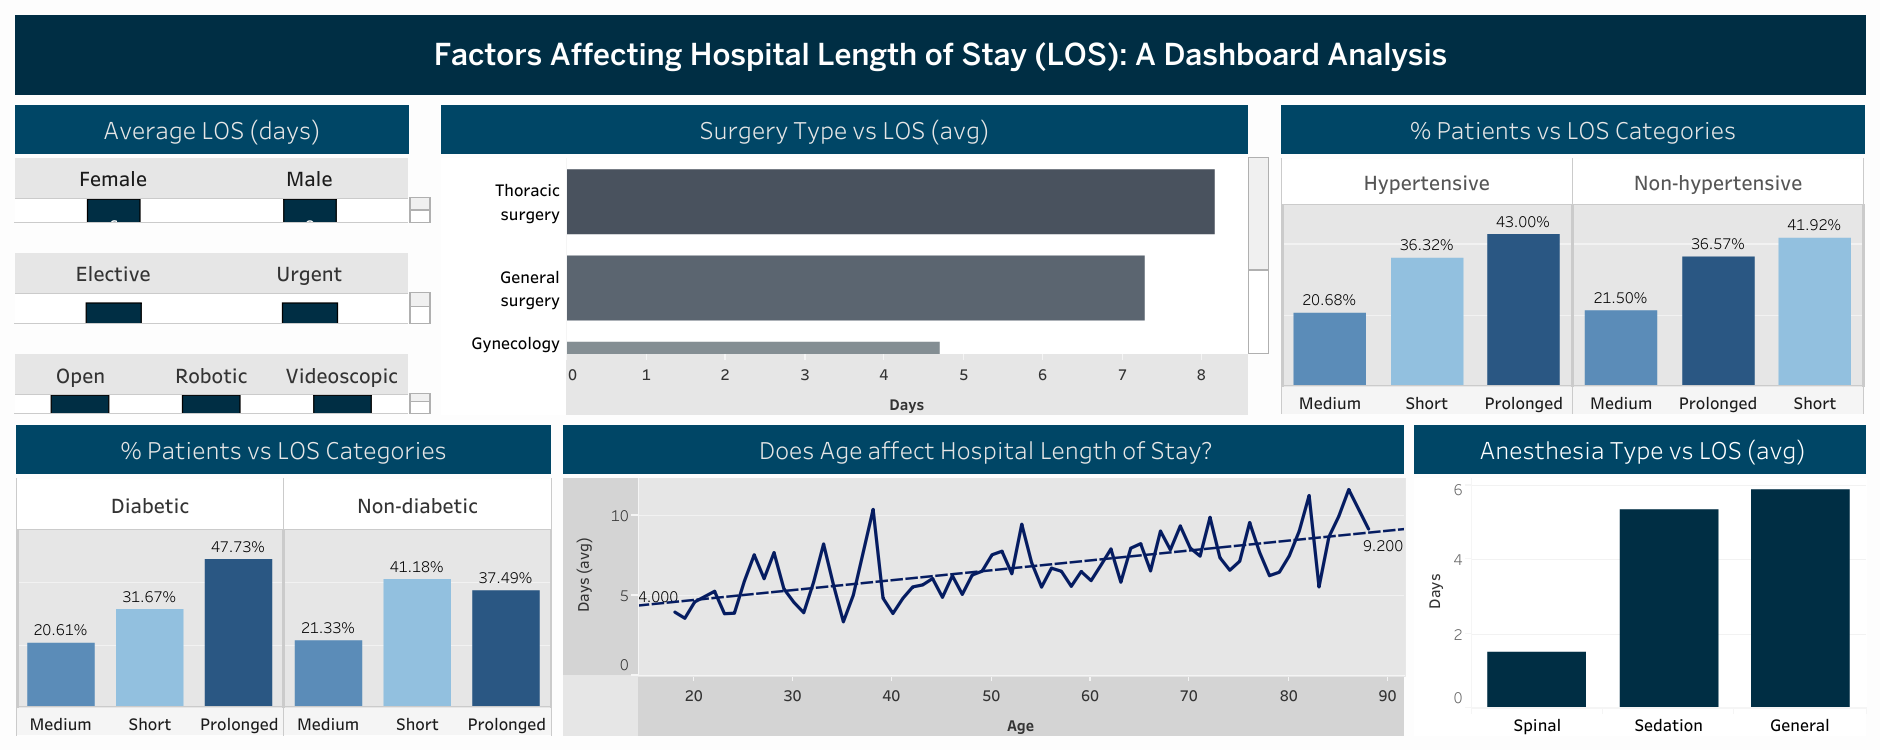

What the dashboard file says about the page in this screenshot:
{"tool":"tableau","page":{"name":"Dashboard 1","canvas":[1000,1000],"units":"permille","ordinal":0},"visuals":[{"type":"title","box":[5,9.4,989.9,84.6]},{"type":"worksheet","title":"male vs female","mark":"Square","cols":["sex"],"box":[5,94,227,179.7]},{"type":"worksheet","title":"op type","mark":"Automatic","rows":["department"],"cols":["LOS_days"],"box":[232,94,446.2,448.2]},{"type":"worksheet","title":"HTN vs non HTN","mark":"Automatic","rows":["case_id"],"cols":["preop_htn","LOS"],"box":[678.1,94,316.8,448.2]},{"type":"worksheet","title":"elective vs urgent","mark":"Square","cols":["emergency_op"],"box":[5,273.7,227,141.5]},{"type":"worksheet","title":"surgical approach","mark":"Square","cols":["surgical_approach"],"box":[5,415.2,227,127]},{"type":"worksheet","title":"diabetic vs non diabetic","mark":"Automatic","rows":["case_id"],"cols":["preop_dm","LOS"],"box":[5,542.2,291.2,448.4]},{"type":"worksheet","title":"age","mark":"Automatic","rows":["LOS_days"],"cols":["age"],"box":[296.2,542.2,453.1,448.4]},{"type":"worksheet","title":"anaesthesia type","mark":"Automatic","rows":["LOS_days"],"cols":["ane_type"],"box":[749.3,542.2,245.7,448.4]},{"type":"legend","title":"anaesthesia type","param":"[federated.1hrzsoy0yfxrps191raw10ao1mra].[none:Calculation_932808123663896578:nk","box":[818.4,652.2,87.3,131.6]}]}

Visuals, with their boxes on the dashboard's canvas, which has no fixed pixel size, in thousandths of its width and height (x1, y1, x2, y2). These are canvas units, not pixel positions in the 1880x750 screenshot, which may show the page scaled, cropped or inside an application window:
title: region(5, 9, 995, 94)
"male vs female" worksheet (Square marks): region(5, 94, 232, 274)
"op type" worksheet: region(232, 94, 678, 542)
"HTN vs non HTN" worksheet: region(678, 94, 995, 542)
"elective vs urgent" worksheet (Square marks): region(5, 274, 232, 415)
"surgical approach" worksheet (Square marks): region(5, 415, 232, 542)
"diabetic vs non diabetic" worksheet: region(5, 542, 296, 991)
"age" worksheet: region(296, 542, 749, 991)
"anaesthesia type" worksheet: region(749, 542, 995, 991)
"anaesthesia type" legend: region(818, 652, 906, 784)
